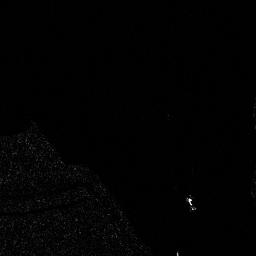ship: (186, 193, 197, 211)
